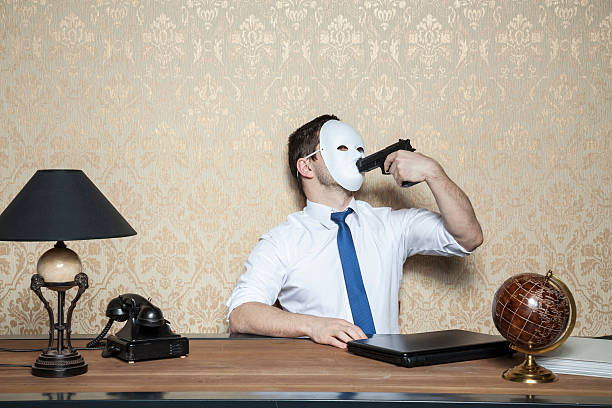gun: (357, 137, 421, 190)
